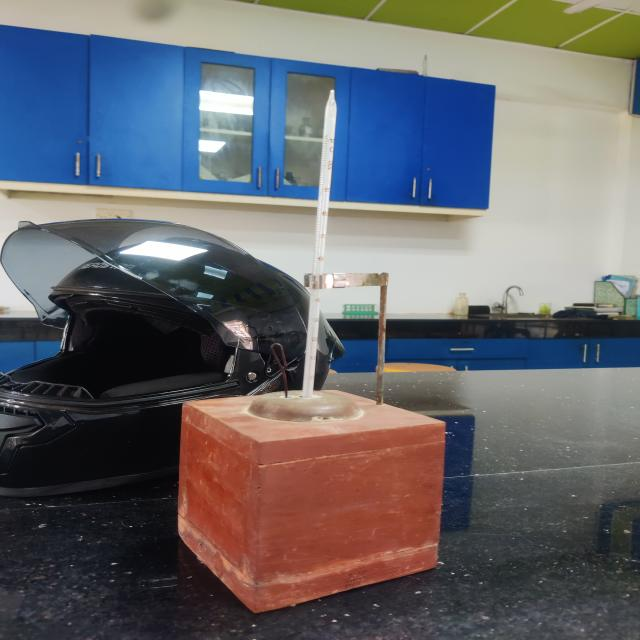Calorimeter: (145, 74, 490, 630)
